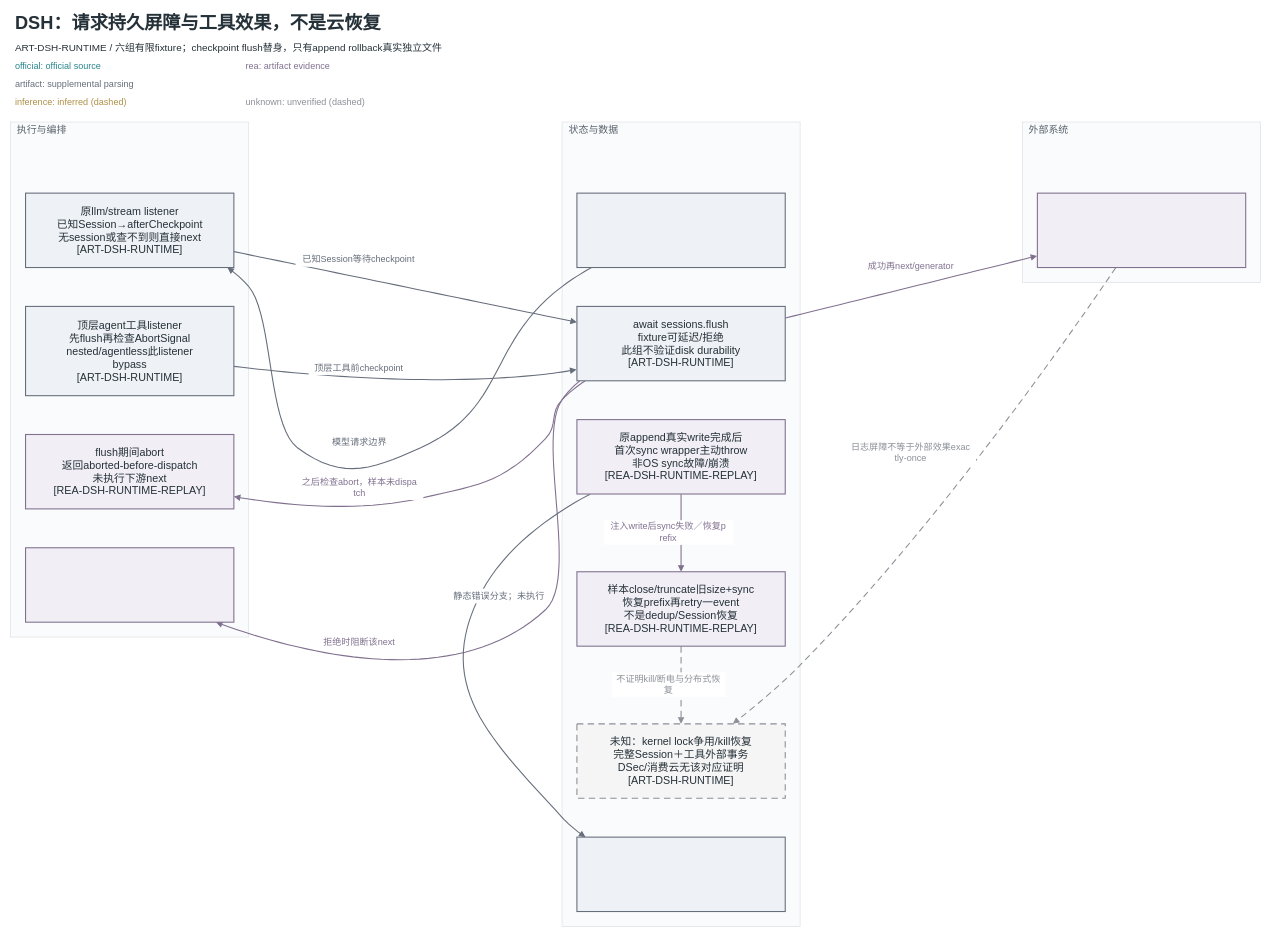
Some shapes in this 1272 by 937 pixel diagram are drawn without their labels. The shapes that lost their labels are listed below. From the top down, each one's centre as x and y in pixels, then its label:
At pixel 680 230: "Session已记录request/tool prefix 写入前缀与外部效果分开 [ART-DSH-RUNTIME]".
At pixel 1141 230: "flush成功才构造model stream 下游adapter为合成generator 没有真实模型请求 [REA-DSH-RUNTIME-REPLAY]".
At pixel 129 584: "flush失败在此边界拒绝 adapter/tool body未调用 非全插件/全副作用安全 [REA-DSH-RUNTIME-REPLAY]".
At pixel 680 874: "原静态：回滚自身也失败 抛AggregateError 此分支未运行/非本次REA断言 [ART-DSH-RUNTIME]".
